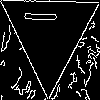I: (24, 9, 65, 24)
